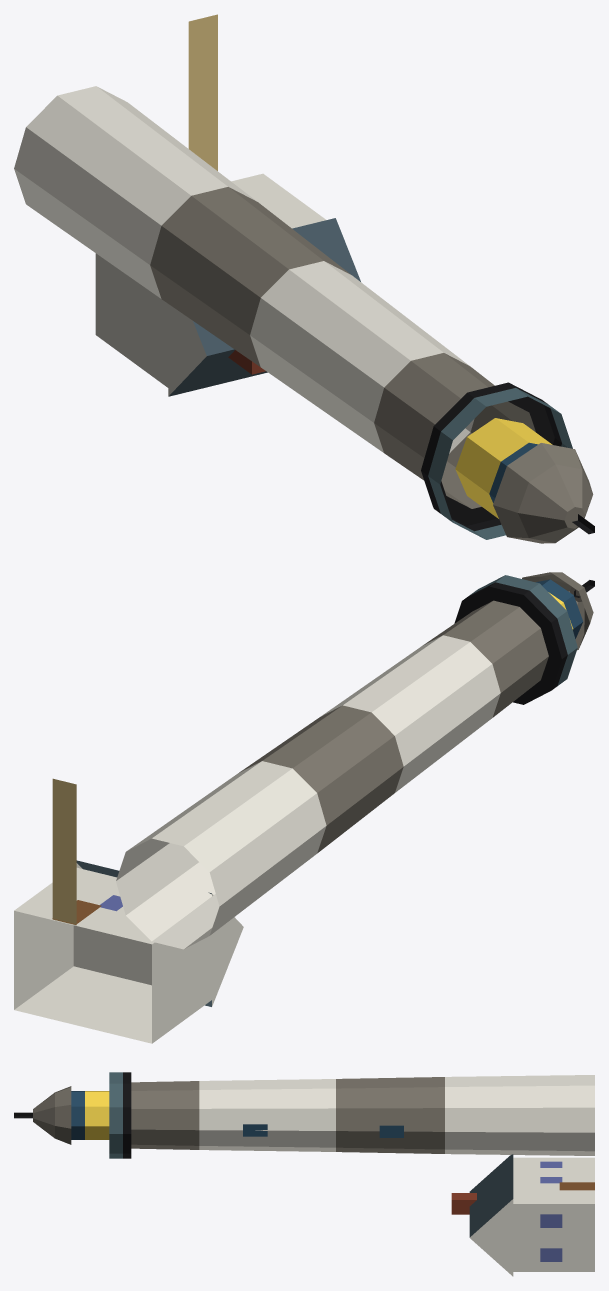
The picture shows the model from 3 angles, top to bottom: view 1: azimuth 30°, elevation 25°; view 2: azimuth 150°, elevation 25°; view 3: azimuth 270°, elevation 25°; orthographic projection. The views are drawn at different scales.
Visible parts, largest first — view 1: object_lighthouse; view 2: object_lighthouse; view 3: object_lighthouse.
Part boxes in pixels (x1,y1,x2,y2): object_lighthouse: [14, 14, 594, 543]; object_lighthouse: [14, 572, 594, 1043]; object_lighthouse: [14, 1072, 594, 1276].
Bounding box in the file's own units: 12.16 × 13.7 × 42.6.
